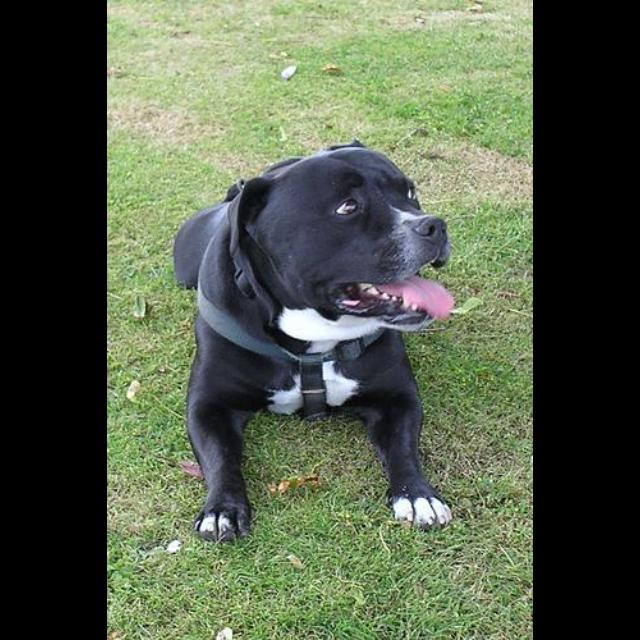amstaff: (173, 139, 458, 543)
